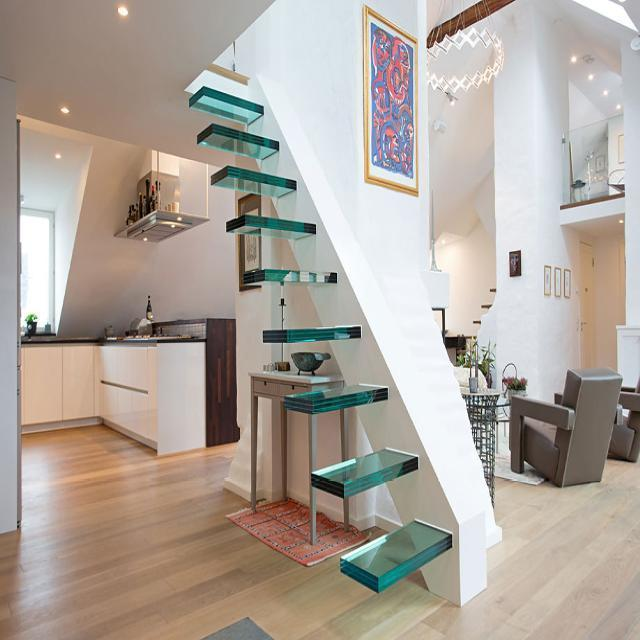stairs: (184, 56, 502, 606)
